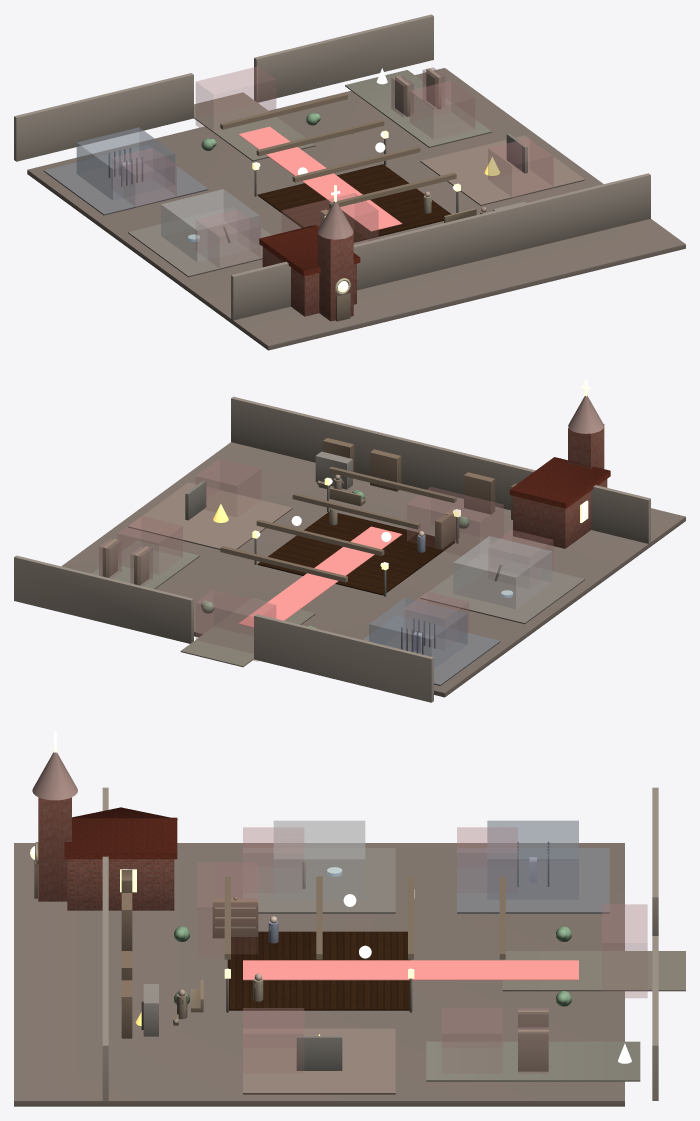
Rendered from interpreter_house.glb.
3 views of the same model, one above another, from view 1: azimuth 30°, elevation 25°; view 2: azimuth 150°, elevation 25°; view 3: azimuth 270°, elevation 25° (orthographic). The views are drawn at different scales.
Parts seen in each view (by area): view 1: ENV_InterpreterHouse_Floor, ENV_InterpreterHouse_WallS, ENV_InterpreterHouse_WallN_R, ENV_InterpreterHouse_WallN_L, VIS_PROP_Chapel (×4), ENV_InterpreterHouse_CageRoom, ENV_InterpreterHouse_DustRoom, ENV_InterpreterHouse_FireRoom, ENV_InterpreterHouse_MainHall, COL_CageFearZone, COL_DustCloudZone, ENV_InterpreterHouse_NarrowRoom (+17 smaller); view 2: ENV_InterpreterHouse_Floor, ENV_InterpreterHouse_WallS, ENV_InterpreterHouse_WallN_L, ENV_InterpreterHouse_WallN_R, VIS_PROP_Chapel (×4), ENV_InterpreterHouse_DustRoom, ENV_InterpreterHouse_MainHall, ENV_InterpreterHouse_FireRoom, COL_DustCloudZone, COL_CageFearZone, TRIGGER_FamilyFear, ENV_InterpreterHouse_CageRoom (+22 smaller); view 3: ENV_InterpreterHouse_Floor, VIS_PROP_Chapel (×5), ENV_InterpreterHouse_MainHall, ENV_InterpreterHouse_CageRoom, ENV_InterpreterHouse_DustRoom, ENV_InterpreterHouse_FireRoom, ENV_InterpreterHouse_NarrowRoom, COL_CageFearZone, COL_DustCloudZone, PROP_Decor_HallRug, ENV_InterpreterHouse_ExitHall, TRIGGER_FamilyFear (+20 smaller).
Boxes of the visible parts, x1,y1,x2,y2 form: ENV_InterpreterHouse_Floor: (27, 68, 685, 350); ENV_InterpreterHouse_WallS: (231, 173, 650, 320); ENV_InterpreterHouse_WallN_R: (254, 14, 433, 102); ENV_InterpreterHouse_WallN_L: (14, 73, 193, 161); VIS_PROP_Chapel (×4): (259, 201, 360, 321); ENV_InterpreterHouse_CageRoom: (43, 145, 208, 215); ENV_InterpreterHouse_DustRoom: (128, 207, 271, 277); ENV_InterpreterHouse_FireRoom: (420, 135, 584, 205); ENV_InterpreterHouse_MainHall: (257, 164, 451, 242); COL_CageFearZone: (76, 127, 175, 200); COL_DustCloudZone: (161, 189, 259, 261); ENV_InterpreterHouse_NarrowRoom: (345, 70, 491, 147); ENV_InterpreterHouse_Floor: (61, 442, 685, 697); ENV_InterpreterHouse_WallS: (231, 396, 650, 543); ENV_InterpreterHouse_WallN_L: (254, 614, 433, 702); ENV_InterpreterHouse_WallN_R: (14, 555, 193, 643); VIS_PROP_Chapel (×4): (509, 395, 610, 548); ENV_InterpreterHouse_DustRoom: (420, 554, 584, 624); ENV_InterpreterHouse_MainHall: (257, 511, 455, 595); ENV_InterpreterHouse_FireRoom: (128, 482, 292, 549); COL_DustCloudZone: (453, 536, 552, 608); COL_CageFearZone: (369, 598, 467, 668); TRIGGER_FamilyFear: (407, 487, 503, 555); ENV_InterpreterHouse_CageRoom: (363, 615, 500, 685); ENV_InterpreterHouse_Floor: (14, 843, 624, 1106); VIS_PROP_Chapel (×5): (32, 752, 177, 910); ENV_InterpreterHouse_MainHall: (227, 931, 410, 1010); ENV_InterpreterHouse_CageRoom: (457, 848, 609, 913); ENV_InterpreterHouse_DustRoom: (243, 848, 395, 913); ENV_InterpreterHouse_FireRoom: (243, 1028, 395, 1094); ENV_InterpreterHouse_NarrowRoom: (426, 1041, 640, 1081); COL_CageFearZone: (487, 820, 578, 899); COL_DustCloudZone: (273, 820, 365, 899); PROP_Decor_HallRug: (243, 960, 578, 980); ENV_InterpreterHouse_ExitHall: (502, 951, 685, 991); TRIGGER_FamilyFear: (197, 862, 257, 955).
Size of the model in its own units: 40 by 12.25 by 44.
57 materials, 3 textured.
